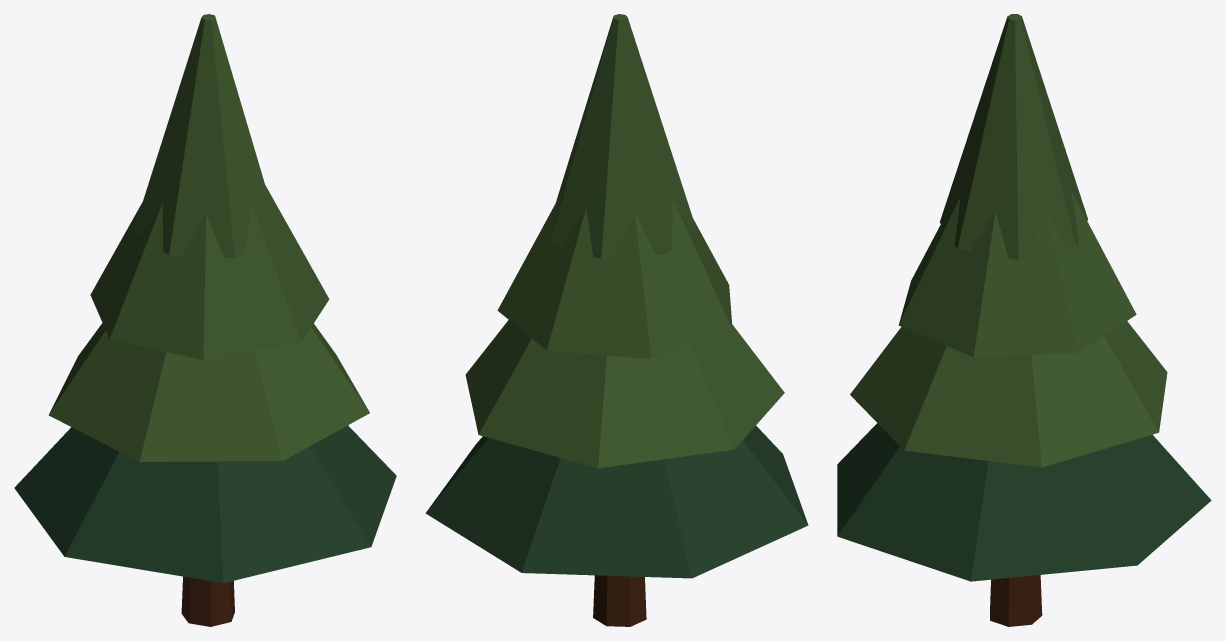
The model's file is tree.glb.
3 views of the same model, side by side, from view 1: azimuth 30°, elevation 25°; view 2: azimuth 150°, elevation 25°; view 3: azimuth 270°, elevation 25° (orthographic).
Visible parts, largest first — view 1: tree_body; view 2: tree_body; view 3: tree_body.
Boxes of the visible parts, x1,y1,x2,y2 form: tree_body: (14,14,396,626); tree_body: (425,14,808,626); tree_body: (837,14,1211,626).
Size of the model in its own units: 1.81 by 3.12 by 1.77.
